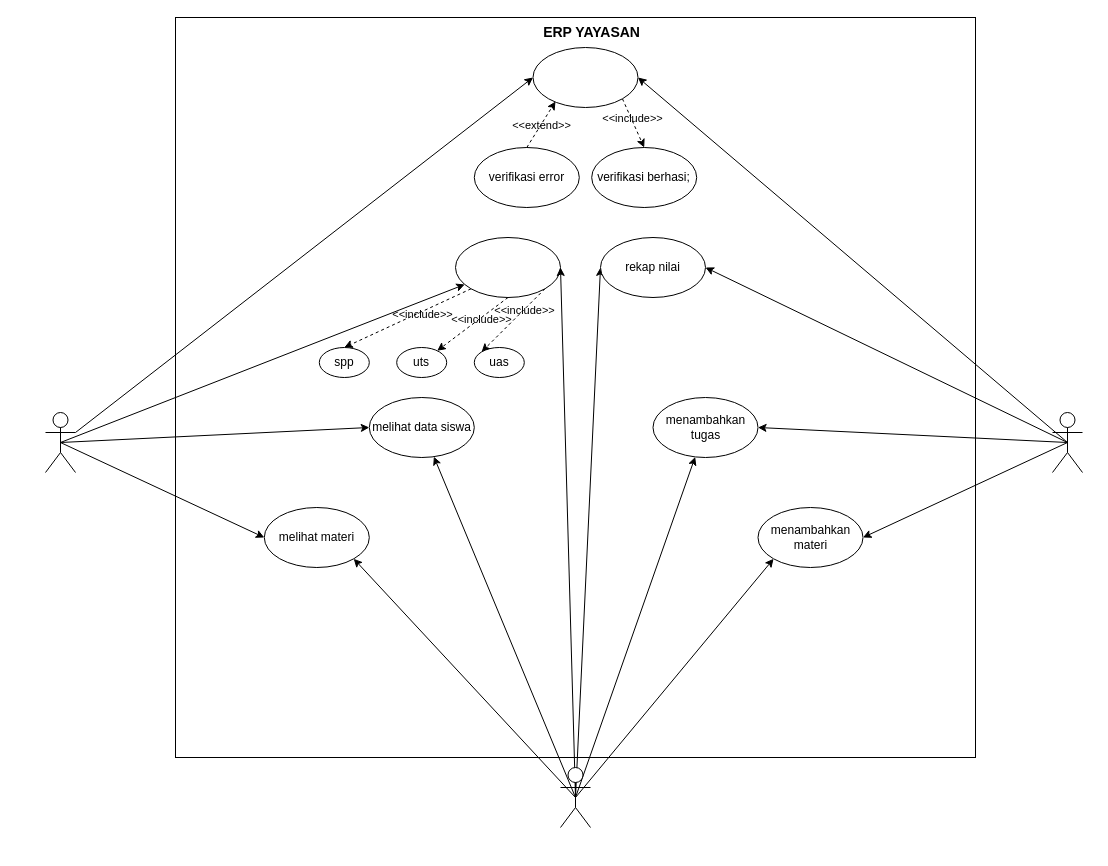
Image size: 1108x866. Some labels were removed from this diagram. Each missing label, with the centre of its shape:
cs: point (575, 797)
Login: point (585, 77)
melakukan pembayaran: point (507, 267)
murid/wali murid: point (60, 442)
staf guru: point (1067, 442)
